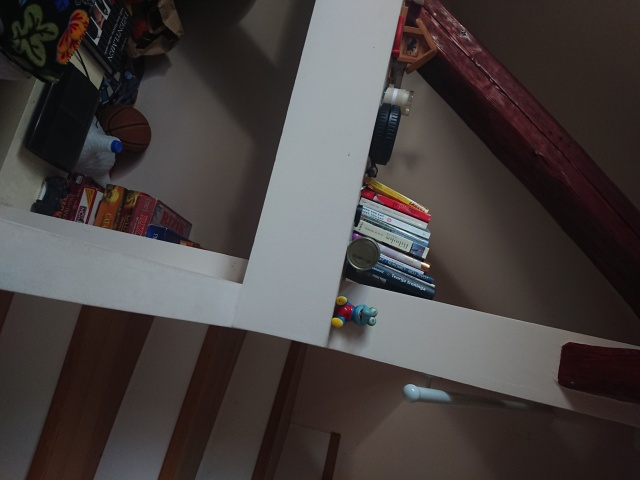Giana Tuna Salad Mexico 185g: (343, 234, 382, 273)
